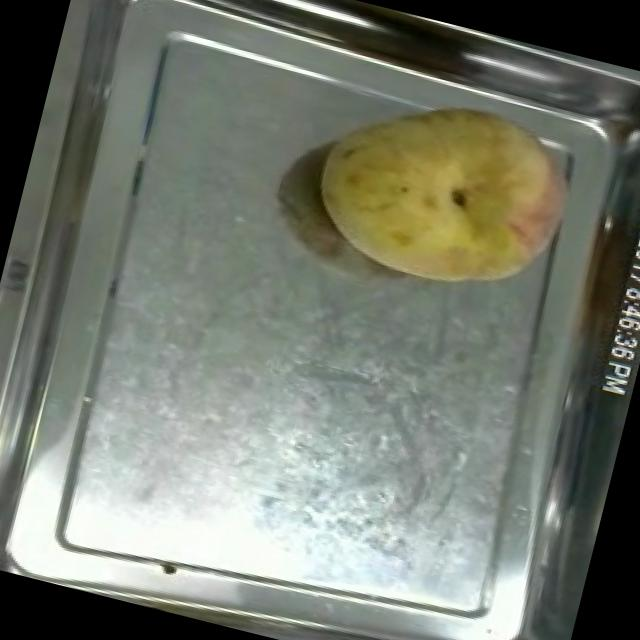Fruit: (294, 61, 596, 318)
